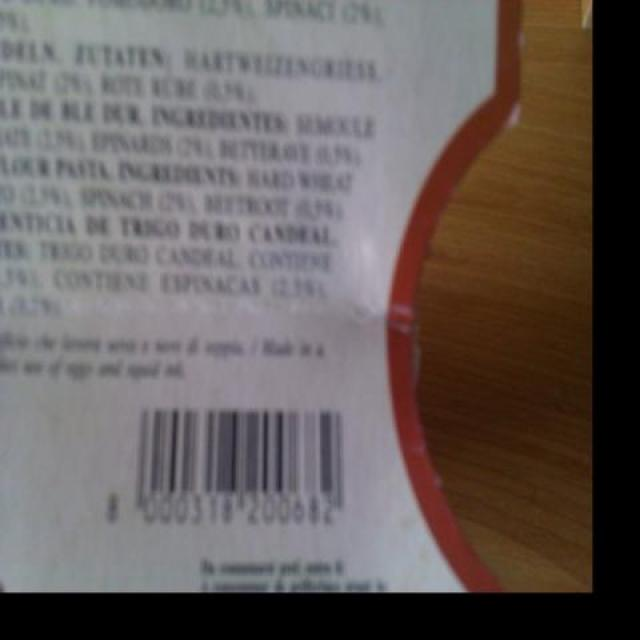Barcode: (95, 392, 369, 544)
